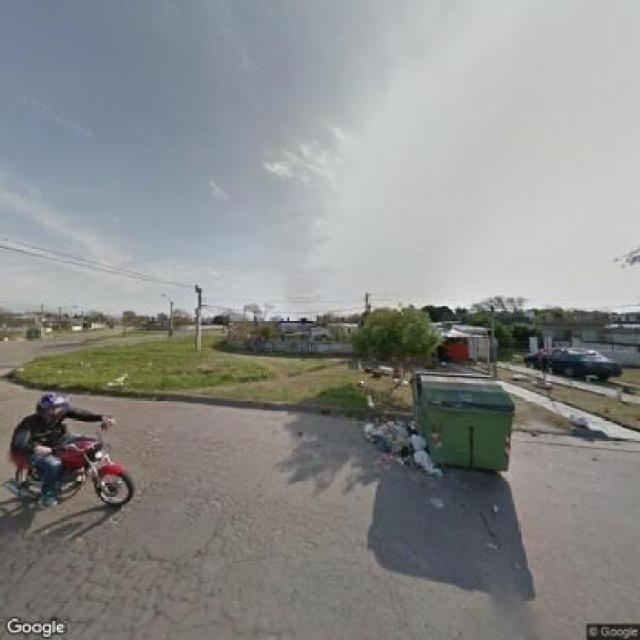garbage: (360, 412, 440, 470)
